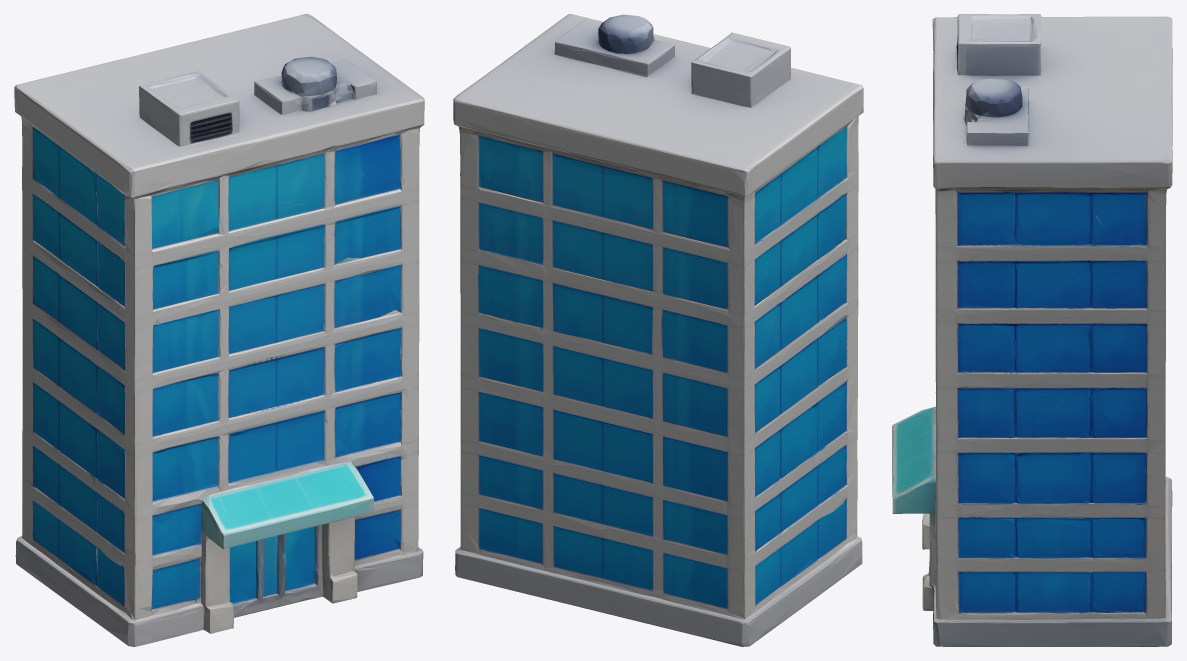
The model's file is office_block.glb.
3 renders of one model, left to right at view 1: azimuth 30°, elevation 25°; view 2: azimuth 150°, elevation 25°; view 3: azimuth 270°, elevation 25°, orthographic.
Visible parts, largest first — view 1: geometry_0; view 2: geometry_0; view 3: geometry_0.
Boxes of the visible parts, left/top/right/bottom form: geometry_0: left=14, top=14, right=424, bottom=646; geometry_0: left=453, top=14, right=863, bottom=646; geometry_0: left=892, top=14, right=1172, bottom=646.
Bounding box in the file's own units: 0.6072 × 1 × 0.4908.
Materials: 1 (1 with a texture image).
